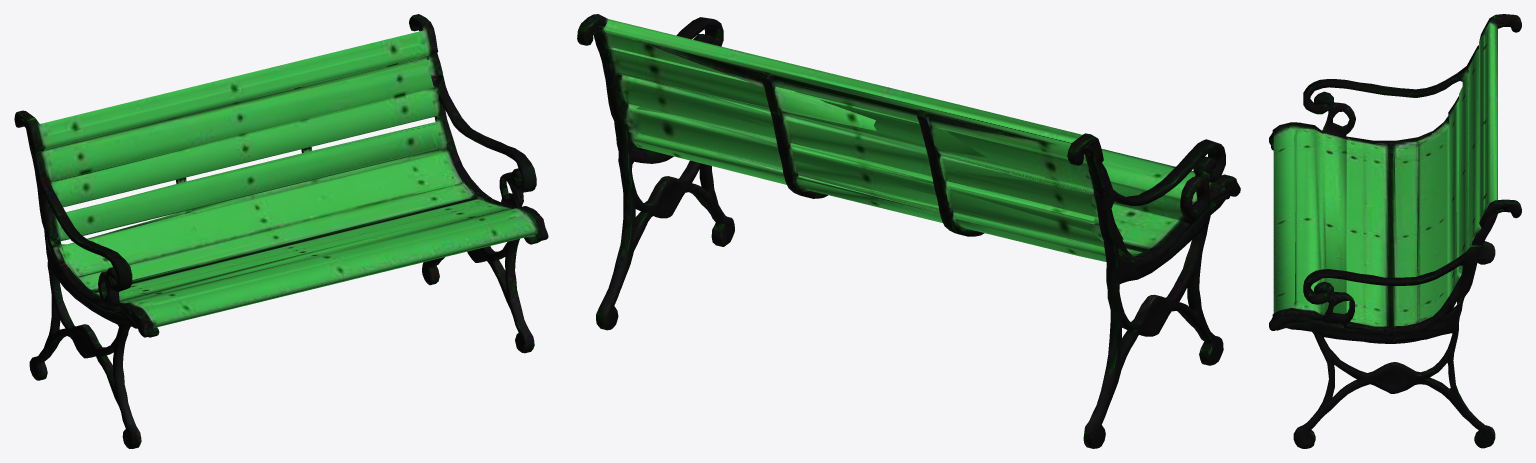
File: parkbench.glb
The picture shows the model from 3 angles, left to right: view 1: azimuth 30°, elevation 25°; view 2: azimuth 150°, elevation 25°; view 3: azimuth 270°, elevation 25°; orthographic projection. The views are drawn at different scales.
Bounding box in the file's own units: 1.91 × 1.12 × 1.04.
1 material, 1 textured.
